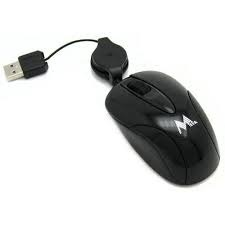mouse: (106, 63, 222, 190)
